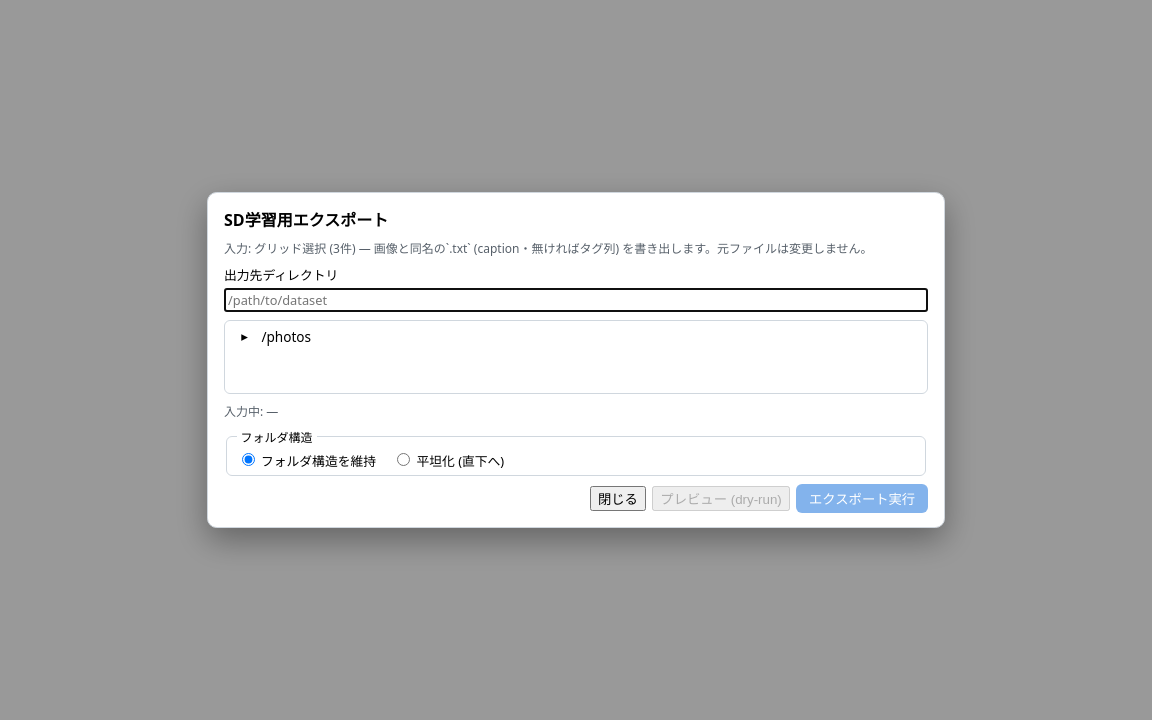
Test: ExportDialog (コンポーネント描画) › 実行すると結果サマリ・失敗・衝突・manifestパスを表示する
In the field with test id "export-dest": (576, 300) [224,288,928,312], type "/out"
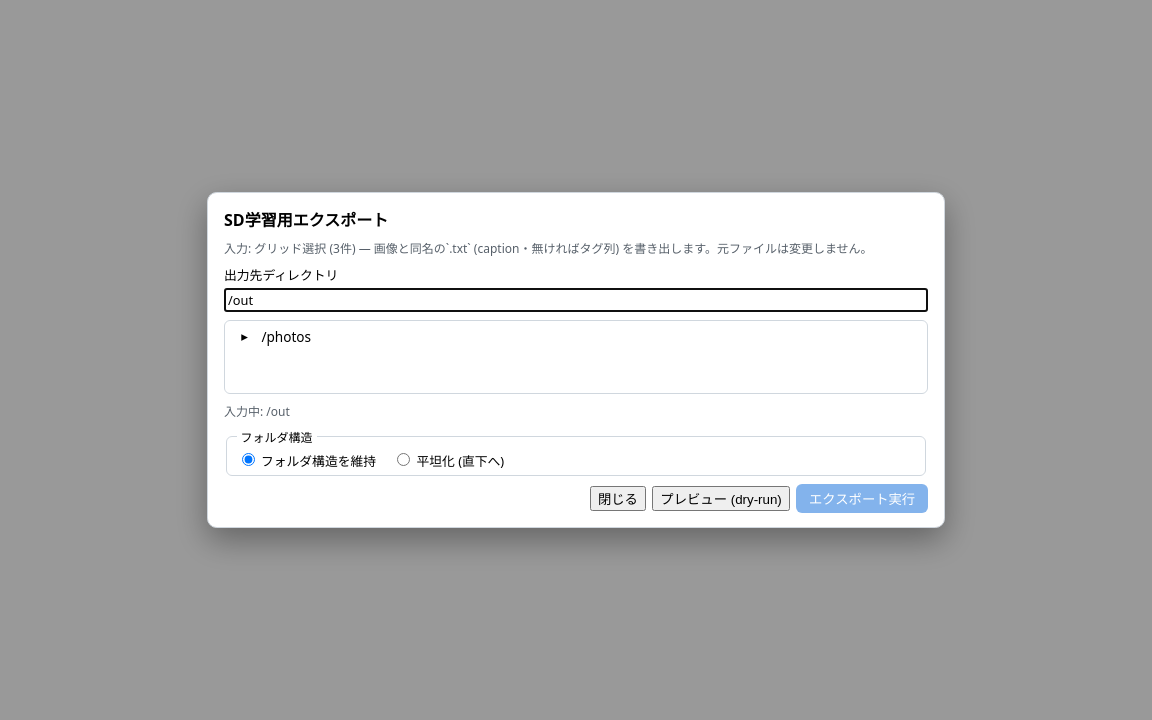
Click the button with test id "export-preview-button": (721, 498) [652,486,790,511]
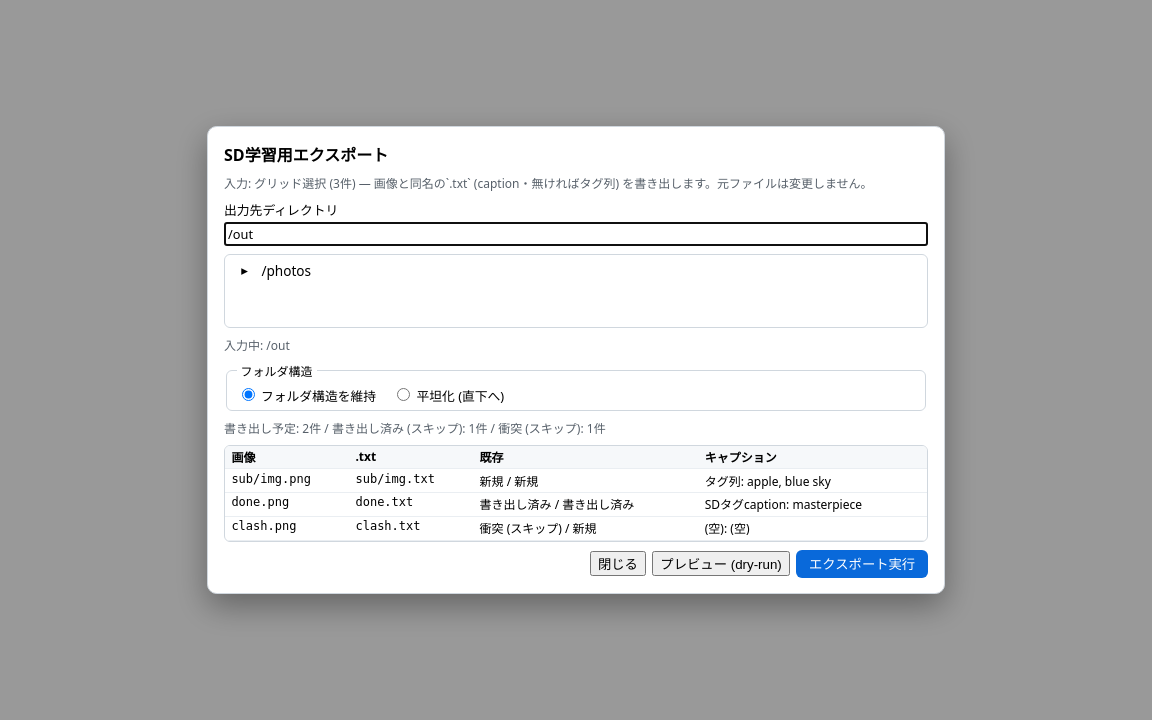
Now the table with test id "export-preview-table" is shown, box [225,446,927,541]
Click the button with test id "export-execute-button": (862, 564) [796,550,928,578]
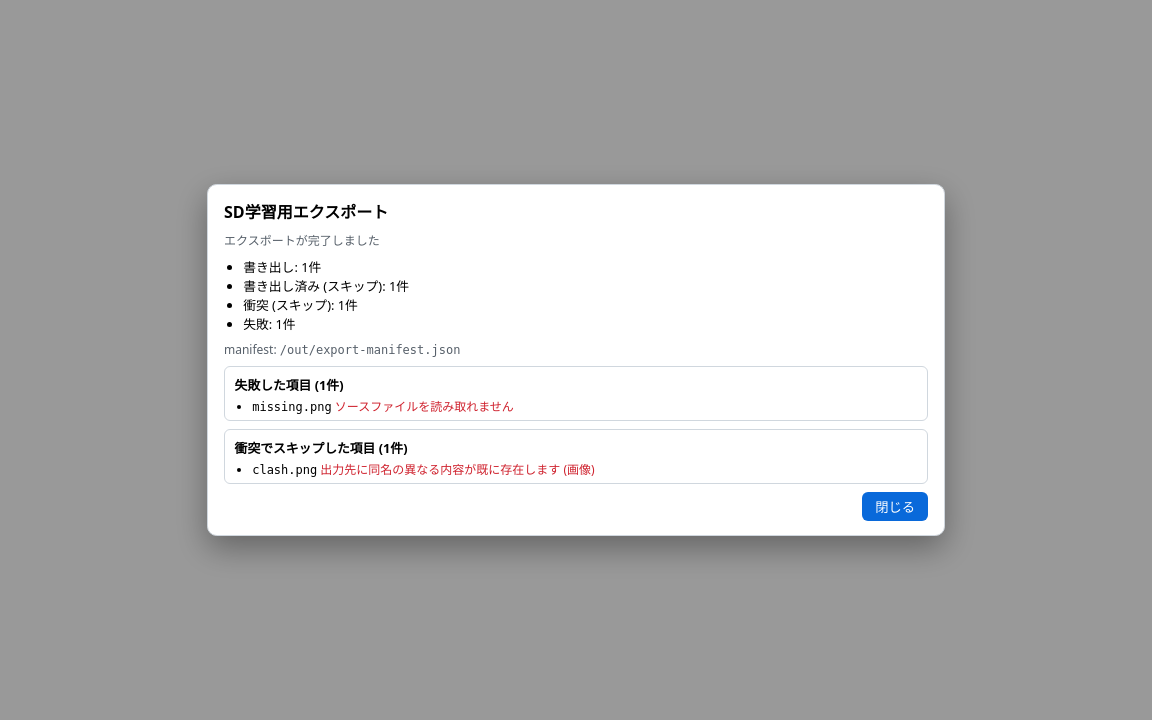
Now the text "エクスポートが完了しました" is shown, box [224,232,380,249]
Now the list with test id "export-result-summary" is shown, box [243,258,409,333]
Now the list with test id "export-result-summary" shows "書き出し: 1件", box [243,258,321,276]
